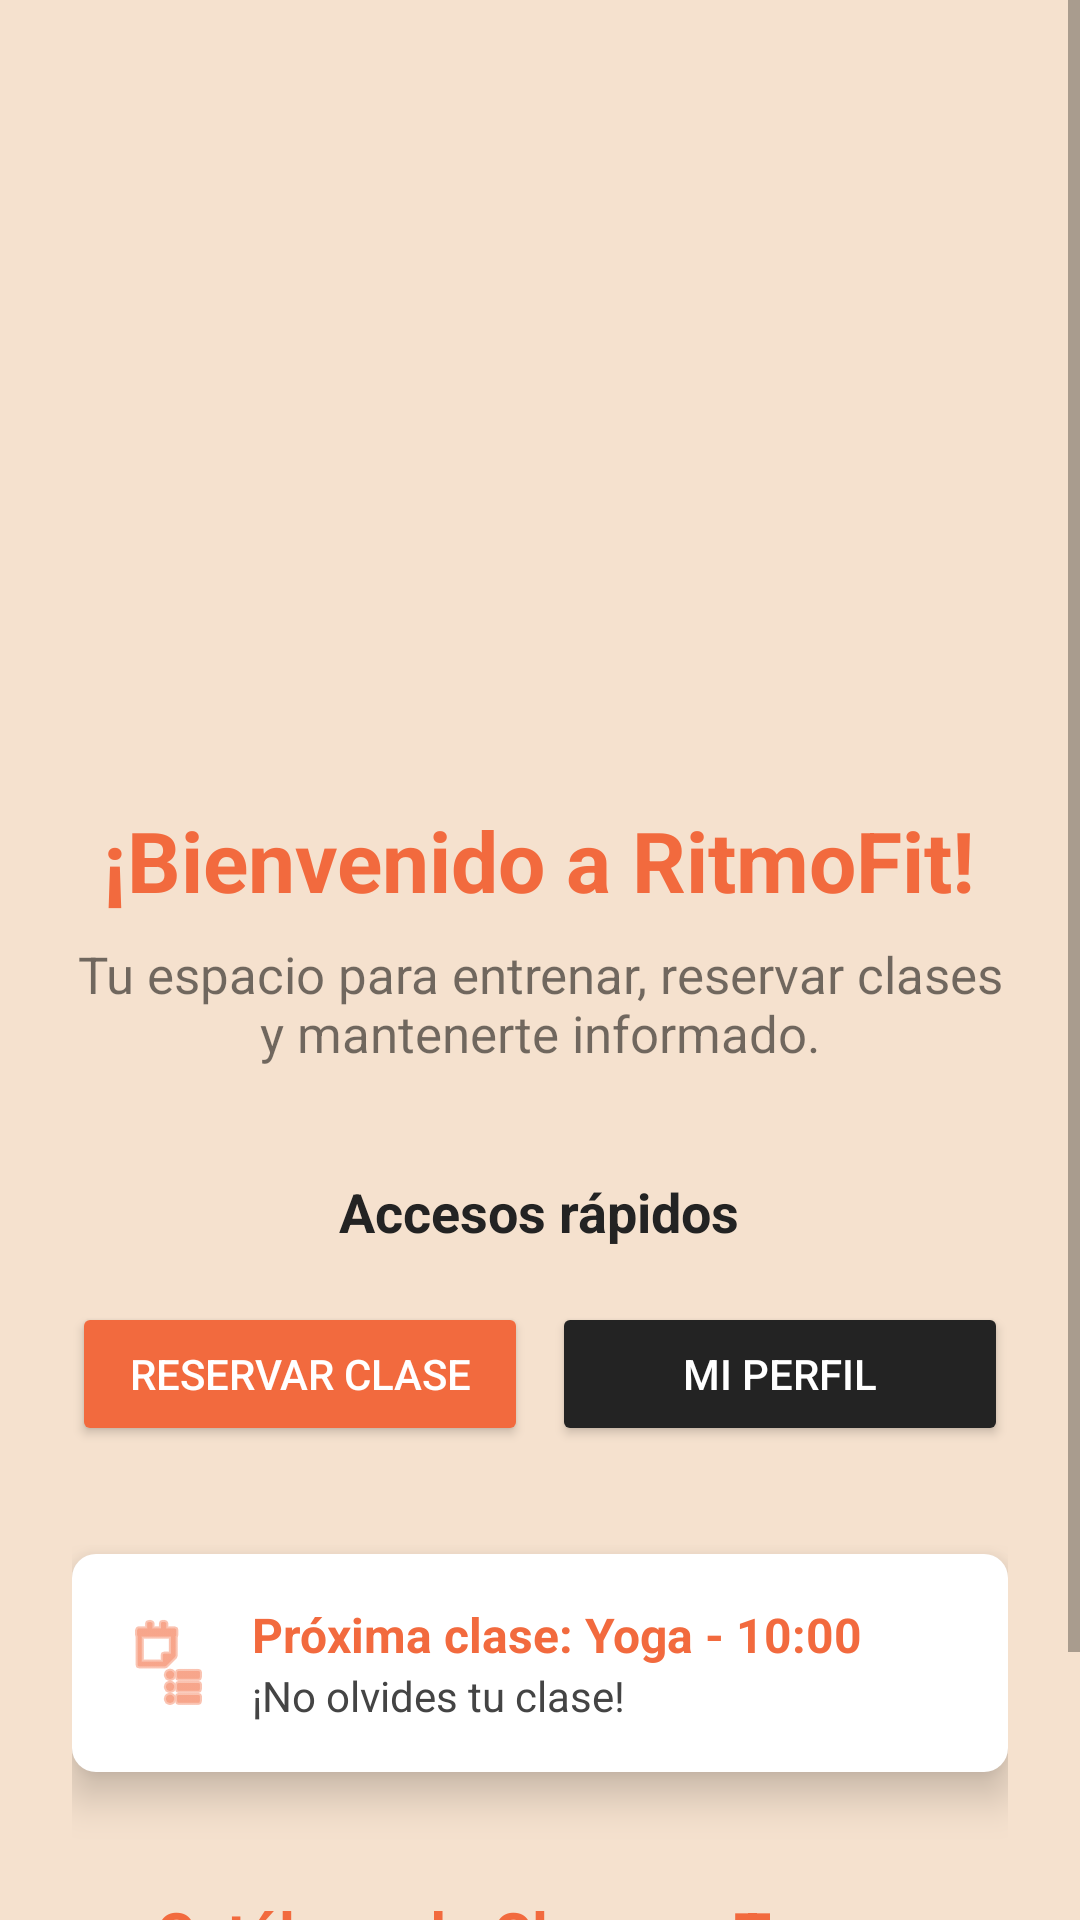

Icons on this 1080 x 1920 Android screen, each with its box as (x1, y1, x2, y2):
agenda: (135, 1620, 202, 1705)
